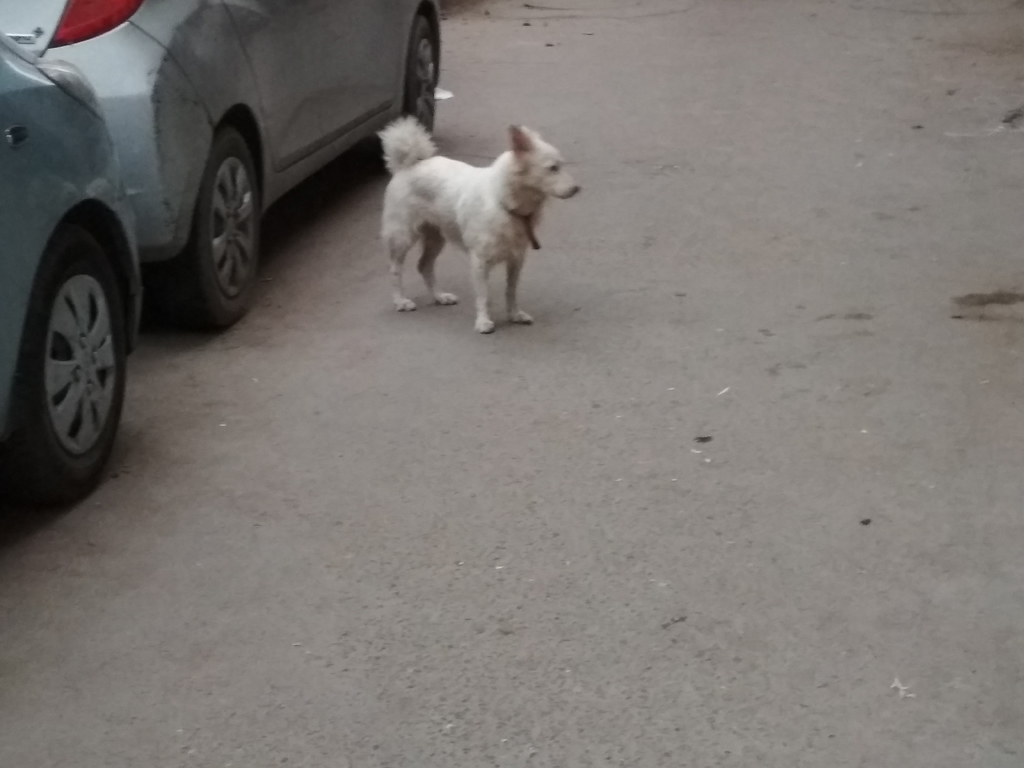dog: (376, 114, 579, 335)
